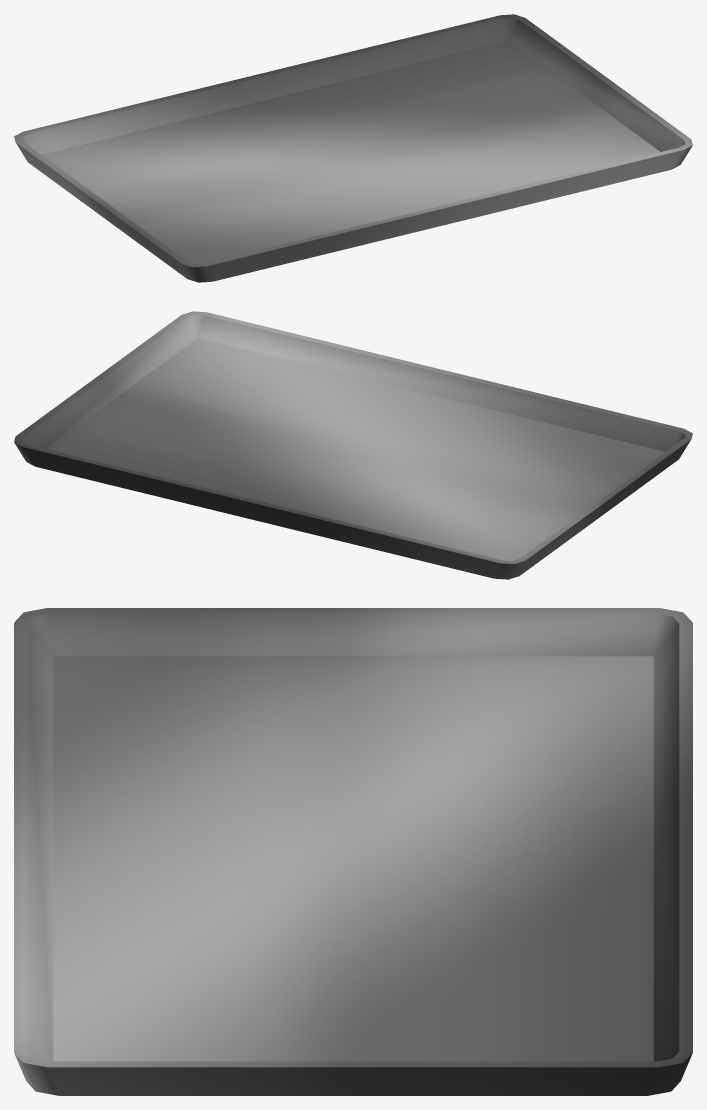
The model's file is Metal Food Tray.fbx.
3 renders of one model, top to bottom at view 1: azimuth 30°, elevation 25°; view 2: azimuth 150°, elevation 25°; view 3: azimuth 270°, elevation 25°, orthographic. The views are drawn at different scales.
Visible parts, largest first — view 1: Metal Food Tray; view 2: Metal Food Tray; view 3: Metal Food Tray.
Part boxes in pixels (x1,y1,x2,y2): Metal Food Tray: (14, 14, 692, 282); Metal Food Tray: (14, 311, 692, 579); Metal Food Tray: (14, 608, 692, 1095).
Size of the model in its own units: 40 by 1.5 by 25.
